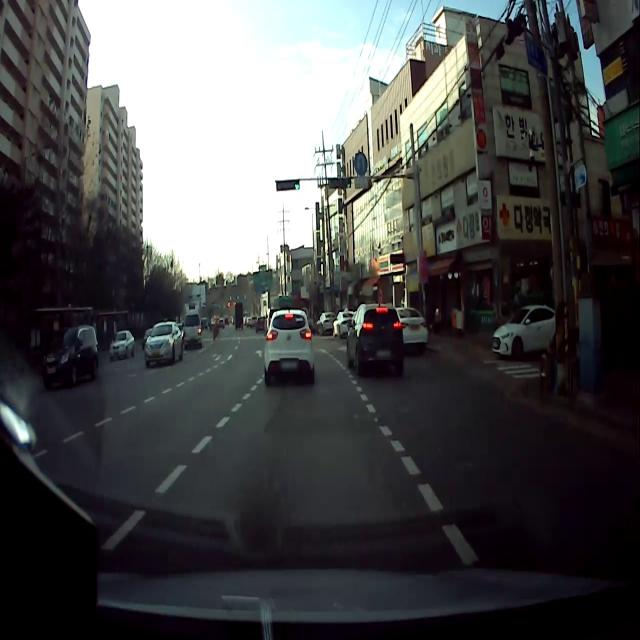Green Light: (294, 179, 300, 191), (345, 177, 351, 189)
